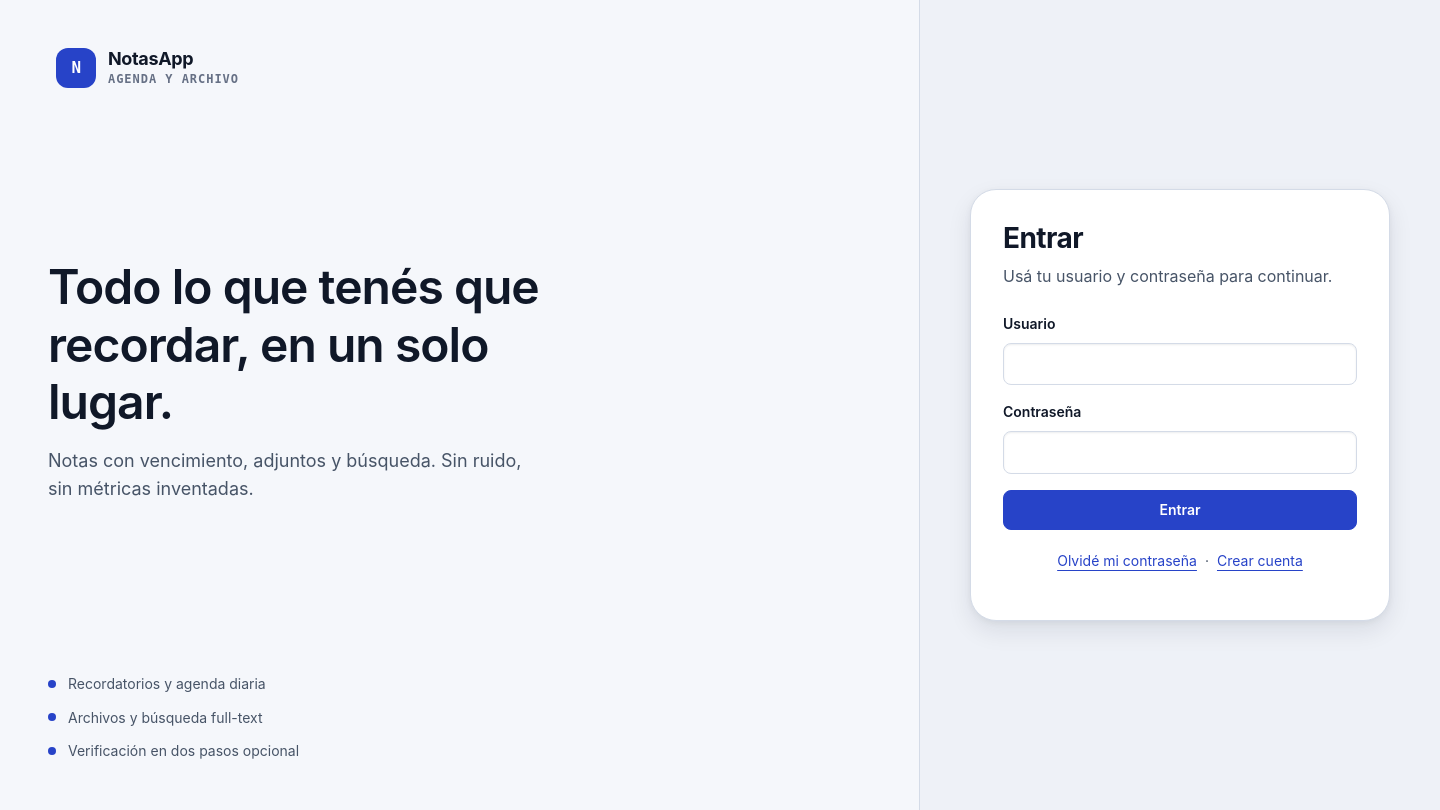
LoginPage › ofrece reenviar la verificación si el email no está verificado
Type "gaston" into the field labelled "Usuario".
click(1180, 364); type("gaston")  # box top-left (1003, 342), bottom-right (1357, 385)
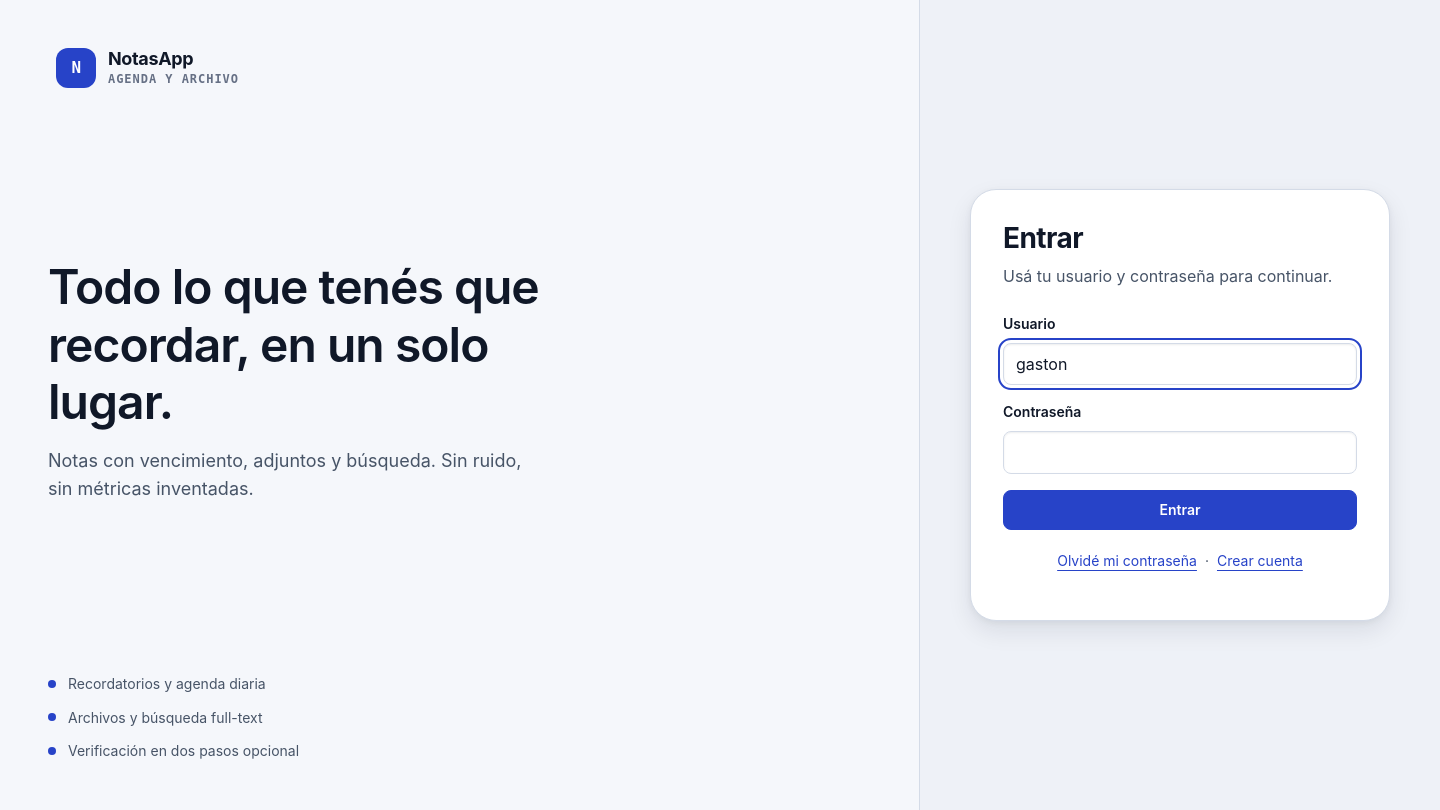
Type "secreta123" into the password field labelled "Contraseña".
click(1180, 452); type("secreta123")  # box top-left (1003, 431), bottom-right (1357, 474)
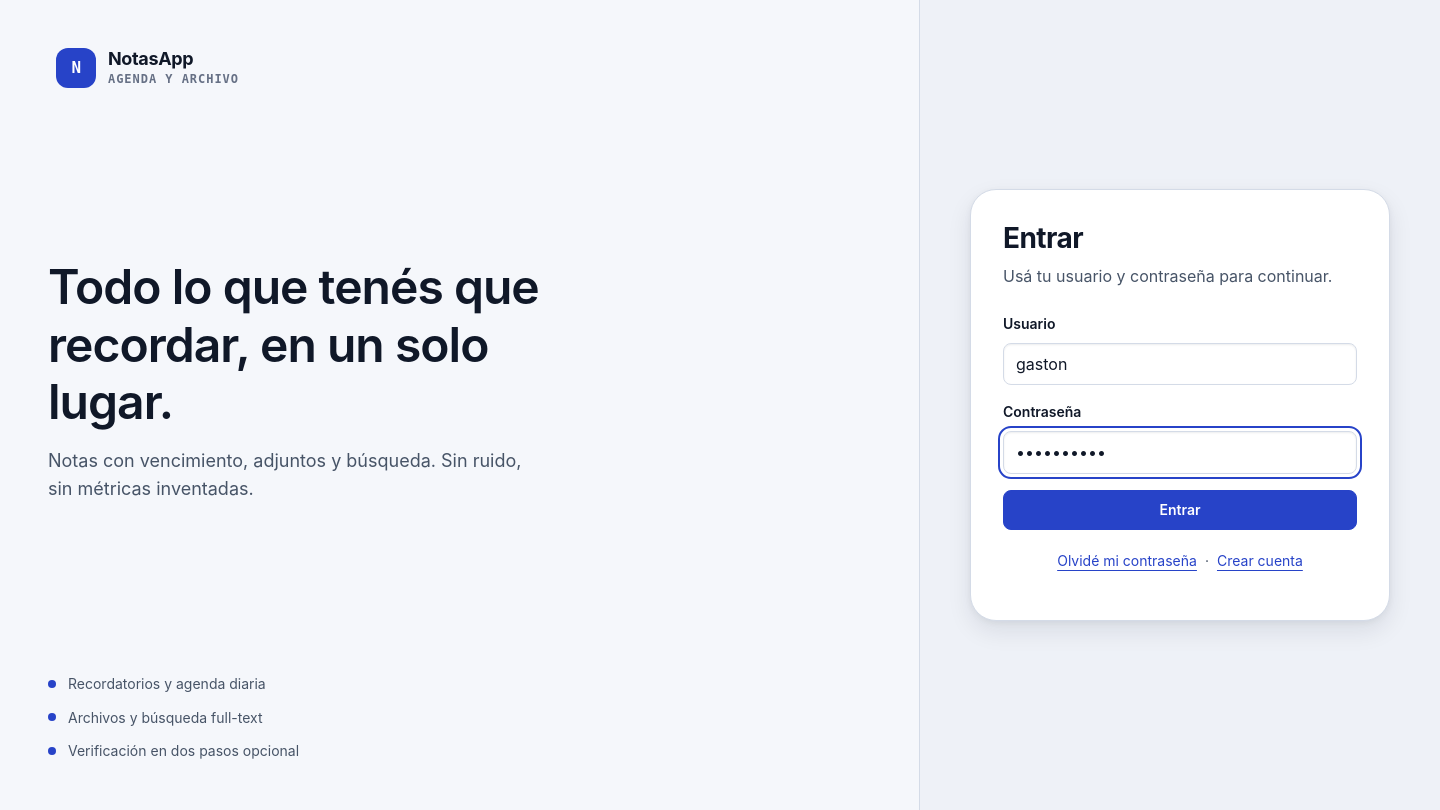
Click the button "Entrar".
click(1180, 510)  # box top-left (1003, 490), bottom-right (1357, 530)
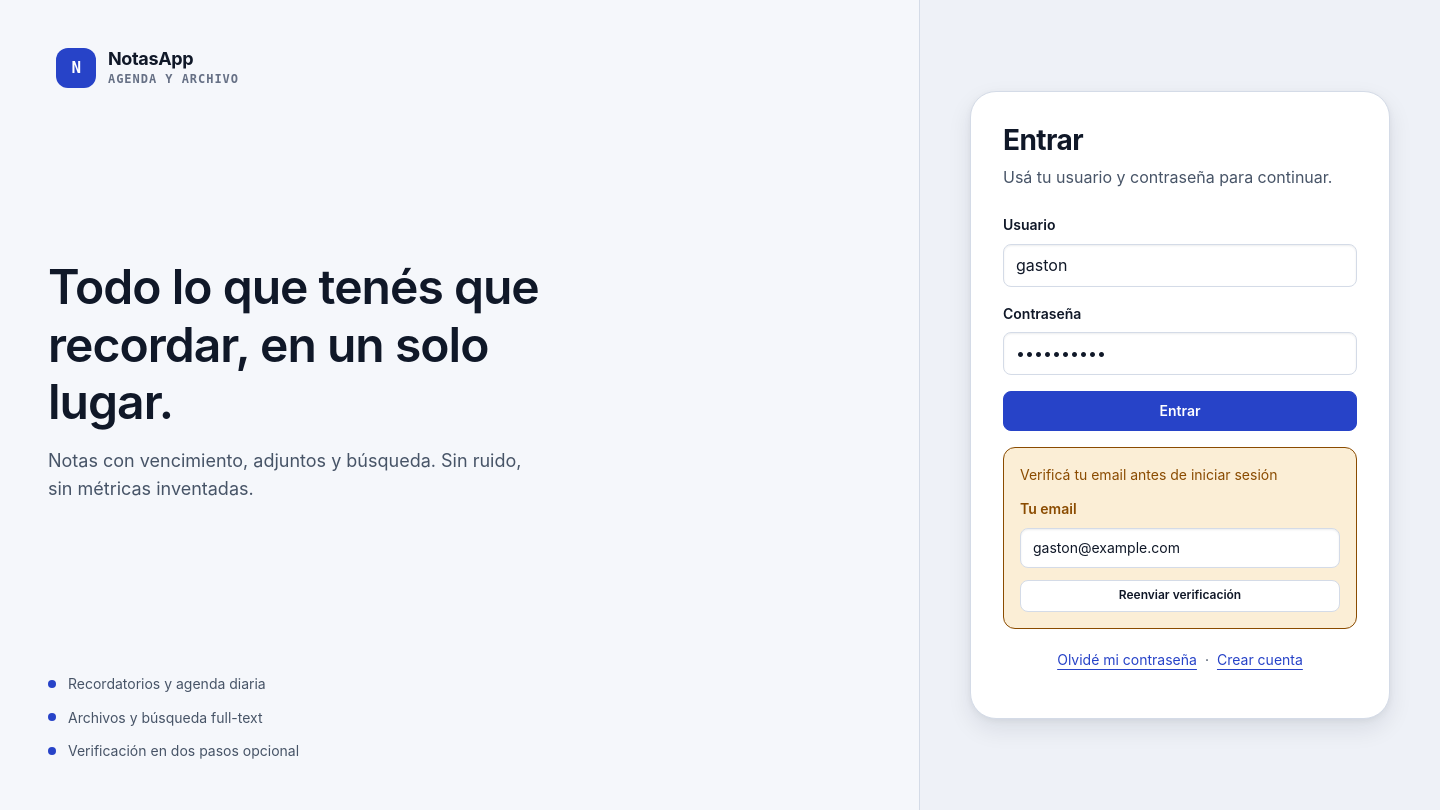
Result: the field labelled "Tu email" holds "gaston@example.com" at top-left (1020, 528), bottom-right (1340, 568)
Click the button "Reenviar verificación".
click(1180, 596)  # box top-left (1020, 580), bottom-right (1340, 612)
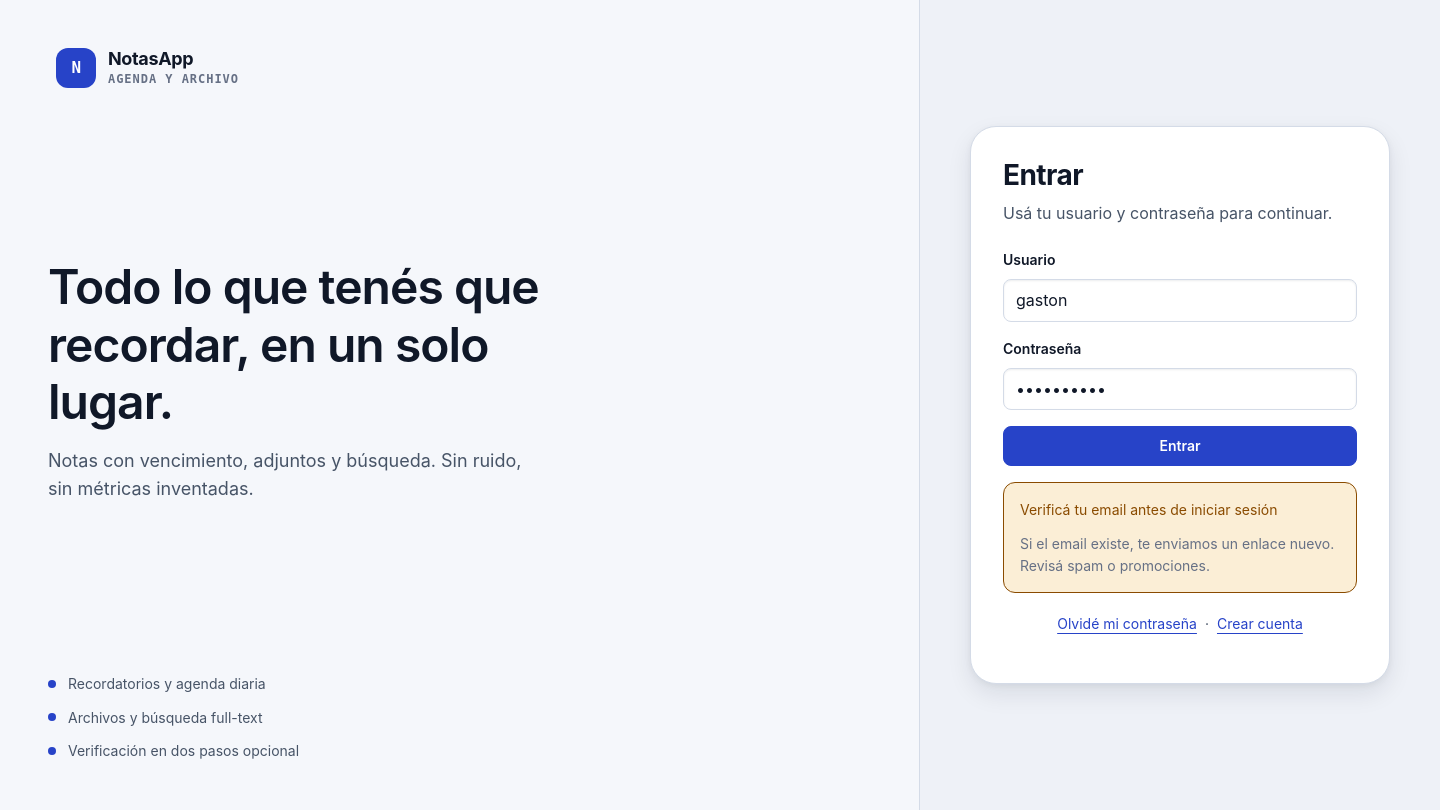
Result: the text "Si el email existe" is shown at top-left (1020, 535), bottom-right (1334, 574)
